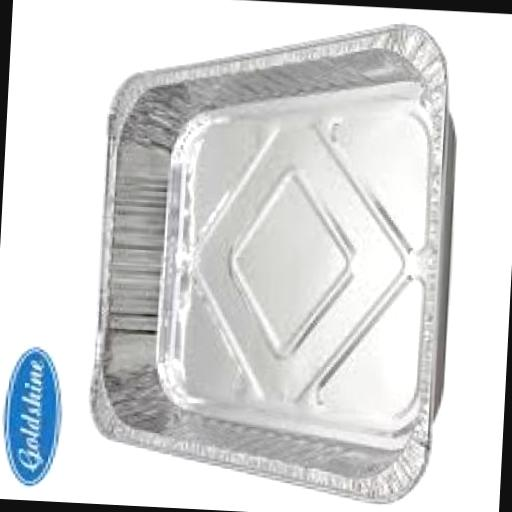metal: (81, 10, 458, 508)
